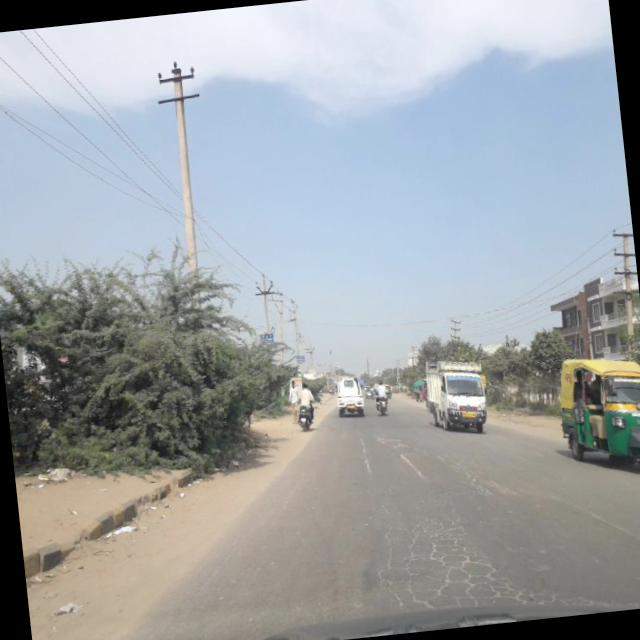crack: (357, 501, 541, 631)
